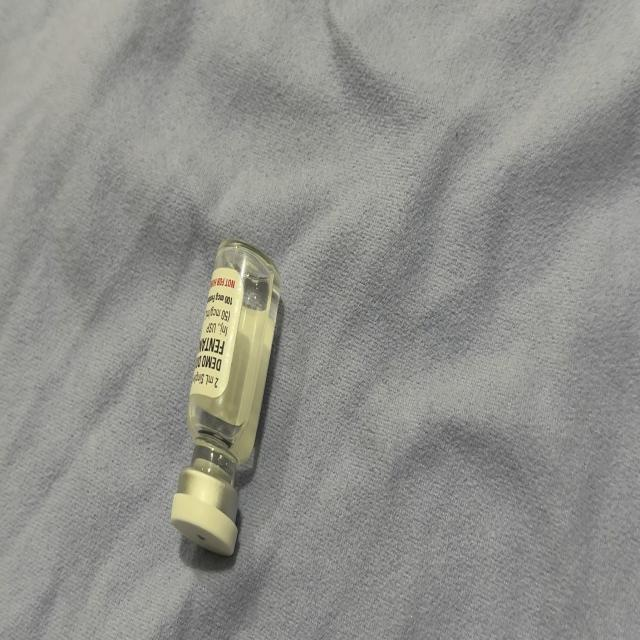fentanl_citrat: (172, 244, 280, 552)
